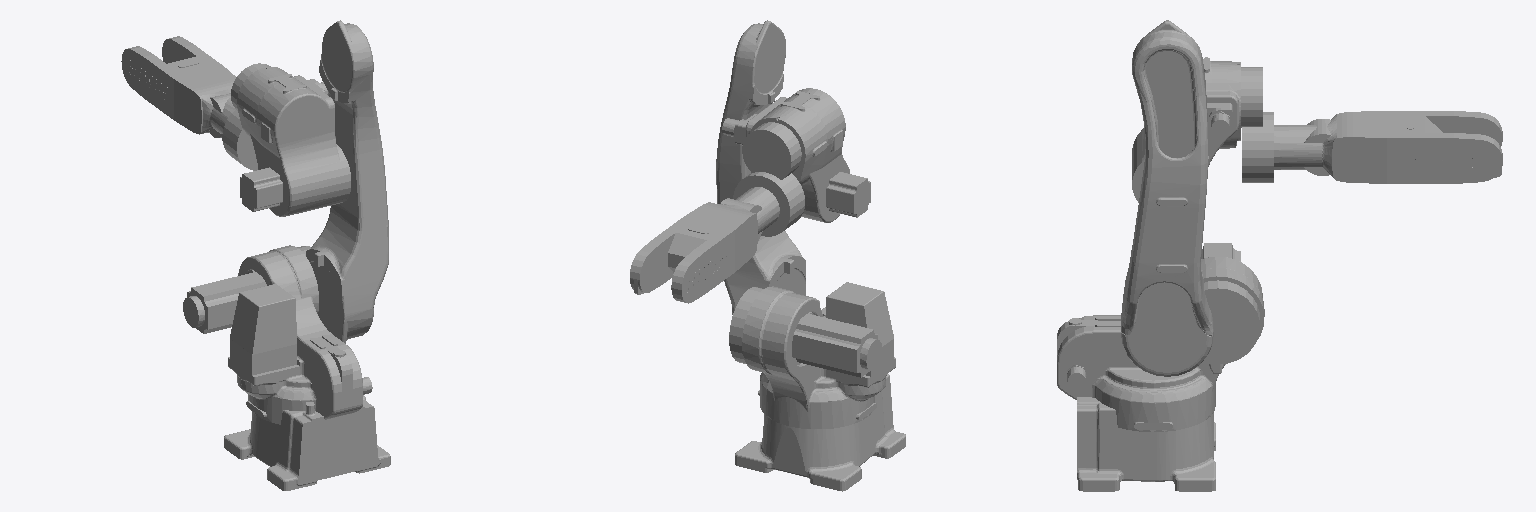
URDF robot description (hiwin):
<?xml version="1.0" ?>
<!-- =================================================================================== -->
<!-- |    This document was autogenerated by xacro from src/walker_arm/hiwin_description/urdf/ra.urdf.xacro | -->
<!-- |    EDITING THIS FILE BY HAND IS NOT RECOMMENDED                                 | -->
<!-- =================================================================================== -->
<robot name="hiwin">
  <!-- create link fixed to the "world" -->
  <link name="world"/>
  <!-- ========== 組件加載器 ========== -->
  <!-- 功能：集中管理平台（platform）和末端執行器（ee）的選擇邏輯 -->
  <!-- 職責：根據參數值判斷並調用對應的巨集 -->
  <!-- 無平台配置 -->
  <!-- AGV 平台配置 -->
  <!-- 包含安全地板和 AGV 平台的完整定義 -->
  <!-- HIWIN 平台配置 -->
  <!-- 參考 agv_platform.xacro 建立；請依需求調整網格檔路徑與位姿參數 -->
  <!-- 無末端執行器配置 -->
  <!-- 提供最小化的 TCP (tool0)，確保 SRDF 中 tip_link=tool0 保持有效 -->
  <!-- 空巨集：不添加任何平台相關的連結或關節 -->
  <!-- 機械手臂將直接連接到世界座標系 -->
  <!-- 新增平台時只需在這裡新增 if 判斷 -->
  <!-- 例如：
    <xacro:if value="${platform_type == 'mobile_base'}">
      <xacro:mobile_base_platform tf_prefix="${tf_prefix}"/>
    </xacro:if>
    -->
  <link name="base_link">
    <visual>
      <origin rpy="0 0 0" xyz="0 0 0"/>
      <geometry>
        <mesh filename="../meshes/ra605_710/visual/base.stl" scale="1 1 1"/>
      </geometry>
      <material name="LightGrey">
        <color rgba="0.7 0.7 0.7 1.0"/>
      </material>
    </visual>
    <collision>
      <origin rpy="0 0 0" xyz="0 0 0"/>
      <geometry>
        <mesh filename="../meshes/ra605_710/collision/base.stl" scale="1 1 1"/>
      </geometry>
    </collision>
  </link>
  <link name="link_1">
    <visual>
      <origin rpy="0 0 0" xyz="0 0 0"/>
      <geometry>
        <mesh filename="../meshes/ra605_710/visual/link_1.stl" scale="1 1 1"/>
      </geometry>
      <material name="LightGrey">
        <color rgba="0.7 0.7 0.7 1.0"/>
      </material>
    </visual>
    <collision>
      <origin rpy="0 0 0" xyz="0 0 0"/>
      <geometry>
        <mesh filename="../meshes/ra605_710/collision/link_1.stl" scale="1 1 1"/>
      </geometry>
    </collision>
  </link>
  <link name="link_2">
    <visual>
      <origin rpy="0 0 0" xyz="0 0 0"/>
      <geometry>
        <mesh filename="../meshes/ra605_710/visual/link_2.stl" scale="1 1 1"/>
      </geometry>
      <material name="LightGrey">
        <color rgba="0.7 0.7 0.7 1.0"/>
      </material>
    </visual>
    <collision>
      <origin rpy="0 0 0" xyz="0 0 0"/>
      <geometry>
        <mesh filename="../meshes/ra605_710/collision/link_2.stl" scale="1 1 1"/>
      </geometry>
    </collision>
  </link>
  <link name="link_3">
    <visual>
      <origin rpy="0 0 0" xyz="0 0 0"/>
      <geometry>
        <mesh filename="../meshes/ra605_710/visual/link_3.stl" scale="1 1 1"/>
      </geometry>
      <material name="LightGrey">
        <color rgba="0.7 0.7 0.7 1.0"/>
      </material>
    </visual>
    <collision>
      <origin rpy="0 0 0" xyz="0 0 0"/>
      <geometry>
        <mesh filename="../meshes/ra605_710/collision/link_3.stl" scale="1 1 1"/>
      </geometry>
    </collision>
  </link>
  <link name="link_4">
    <visual>
      <origin rpy="0 0 0" xyz="0 0 0"/>
      <geometry>
        <mesh filename="../meshes/ra605_710/visual/link_4.stl" scale="1 1 1"/>
      </geometry>
      <material name="LightGrey">
        <color rgba="0.7 0.7 0.7 1.0"/>
      </material>
    </visual>
    <collision>
      <origin rpy="0 0 0" xyz="0 0 0"/>
      <geometry>
        <mesh filename="../meshes/ra605_710/collision/link_4.stl" scale="1 1 1"/>
      </geometry>
    </collision>
  </link>
  <link name="link_5">
    <visual>
      <origin rpy="0 0 0" xyz="0 0 0"/>
      <geometry>
        <mesh filename="../meshes/ra605_710/visual/link_5.stl" scale="1 1 1"/>
      </geometry>
      <material name="LightGrey">
        <color rgba="0.7 0.7 0.7 1.0"/>
      </material>
    </visual>
    <collision>
      <origin rpy="0 0 0" xyz="0 0 0"/>
      <geometry>
        <mesh filename="../meshes/ra605_710/collision/link_5.stl" scale="1 1 1"/>
      </geometry>
    </collision>
  </link>
  <link name="link_6">
    <visual>
      <origin rpy="0 0 0" xyz="0 0 0"/>
      <geometry>
        <mesh filename="../meshes/ra605_710/visual/link_6.stl" scale="1 1 1"/>
      </geometry>
      <material name="LightGrey">
        <color rgba="0.7 0.7 0.7 1.0"/>
      </material>
    </visual>
    <collision>
      <origin rpy="0 0 0" xyz="0 0 0"/>
      <geometry>
        <mesh filename="../meshes/ra605_710/collision/link_6.stl" scale="1 1 1"/>
      </geometry>
    </collision>
  </link>
  <!-- base_joint fixes base_link to the environment -->
  <joint name="base_joint" type="fixed">
    <origin rpy="0 0 0" xyz="0 0 0"/>
    <parent link="world"/>
    <child link="base_link"/>
  </joint>
  <!-- joints - main serial chain -->
  <joint name="joint_1" type="revolute">
    <origin rpy="0 0 0" xyz="0 0 0.375"/>
    <parent link="base_link"/>
    <child link="link_1"/>
    <axis xyz="0 0 1"/>
    <limit effort="101.6" lower="-2.8797932657906435" upper="2.8797932657906435" velocity="3.9269908169872414"/>
  </joint>
  <joint name="joint_2" type="revolute">
    <origin rpy="0 0 0" xyz="0 0.03 0"/>
    <parent link="link_1"/>
    <child link="link_2"/>
    <axis xyz="1 0 0"/>
    <limit effort="127" lower="-2.181661564992912" upper="1.4835298641951802" velocity="3.141592653589793"/>
  </joint>
  <joint name="joint_3" type="revolute">
    <origin rpy="0 0 0" xyz="0 0 0.34"/>
    <parent link="link_2"/>
    <child link="link_3"/>
    <axis xyz="1 0 0"/>
    <limit effort="50.96" lower="-0.9599310885968813" upper="3.2288591161895095" velocity="3.9269908169872414"/>
  </joint>
  <joint name="joint_4" type="revolute">
    <origin rpy="0 0 0" xyz="0 0 0.04"/>
    <parent link="link_3"/>
    <child link="link_4"/>
    <axis xyz="0 1 0"/>
    <limit effort="34.344" lower="-3.3161255787892263" upper="3.3161255787892263" velocity="2.907718533822553"/>
  </joint>
  <joint name="joint_5" type="revolute">
    <origin rpy="0 0 0" xyz="0 0.338 0"/>
    <parent link="link_4"/>
    <child link="link_5"/>
    <axis xyz="1 0 0"/>
    <limit effort="12.72" lower="-2.007128639793479" upper="2.007128639793479" velocity="3.9269908169872414"/>
  </joint>
  <joint name="joint_6" type="revolute">
    <origin rpy="0 0 0" xyz="0 0.0865 0"/>
    <parent link="link_5"/>
    <child link="link_6"/>
    <axis xyz="0 1 0"/>
    <limit effort="7.95" lower="-6.283185307179586" upper="6.283185307179586" velocity="6.283185307179586"/>
  </joint>
  <!-- ROS-Industrial 'flange' frame - attachment point for EEF models -->
  <link name="flange"/>
  <joint name="flange" type="fixed">
    <parent link="link_6"/>
    <child link="flange"/>
    <origin rpy="-1.5708 0 0" xyz="0 0 0"/>
  </joint>
  <!-- 新增平台時只需在這裡新增 if 判斷 -->
  <!-- 例如：
    <xacro:if value="${platform_type == 'mobile_base'}">
      <xacro:hiwin_arm ... parent="mobile_base" .../>
    </xacro:if>
    -->
  <!-- 用紅色球體表示工具座標系原點 -->
  <!-- 紅色用於標示無末端執行器的 TCP -->
  <link name="tool0">
    <visual>
      <origin rpy="0 0 0" xyz="0 0 0"/>
      <geometry>
        <sphere radius="0.005"/>
      </geometry>
      <material name="Red">
        <color rgba="1 0 0 1"/>
      </material>
    </visual>
  </link>
  <!-- 將 tool0 固定連接到法蘭盤 -->
  <joint name="flange-tool0" type="fixed">
    <parent link="flange"/>
    <child link="tool0"/>
    <origin rpy="0 0 0" xyz="0 0 0"/>
  </joint>
  <!-- 新增末端執行器時只需在這裡新增 if 判斷 -->
  <!-- 例如：
    <xacro:if value="${ee_type == 'suction_cup'}">
      <xacro:suction_cup_gripper tf_prefix="${tf_prefix}"/>
    </xacro:if>
    -->
</robot>

--- What the picture shows (computed from the rendered views, not written in the file) ---
Views: 3 orthographic renders of the robot side by side, from view 1: azimuth 30°, elevation 25°; view 2: azimuth 150°, elevation 25°; view 3: azimuth 270°, elevation 25°.
Model hiwin with 10 links and 9 joints (6 revolute, 3 fixed), rooted at world, posed every joint at zero.
Visible links, largest first — view 1: link_1, link_2, link_3, base_link, link_4; view 2: link_1, link_4, link_3, link_2, base_link; view 3: link_2, link_1, link_4, base_link, link_3, link_5.
Boxes of the visible links, bbox=[...] form: link_1: bbox=[183, 245, 372, 424]; link_2: bbox=[306, 20, 388, 343]; link_3: bbox=[231, 63, 350, 216]; base_link: bbox=[224, 395, 390, 490]; link_4: bbox=[121, 36, 257, 170]; link_1: bbox=[729, 282, 895, 428]; link_4: bbox=[630, 172, 804, 303]; link_3: bbox=[722, 88, 870, 222]; link_2: bbox=[716, 20, 805, 314]; base_link: bbox=[735, 374, 905, 491]; link_2: bbox=[1121, 20, 1213, 376]; link_1: bbox=[1057, 243, 1264, 431]; link_4: bbox=[1242, 111, 1502, 183]; base_link: bbox=[1077, 397, 1215, 491]; link_3: bbox=[1132, 57, 1262, 202]; link_5: bbox=[1304, 119, 1331, 175].
Size in the robot's own frame: 0.4548 by 0.969 by 1.11 metres.
Meshes: 7 distinct files referenced, 7 mesh visuals loaded (7 binary STL).
